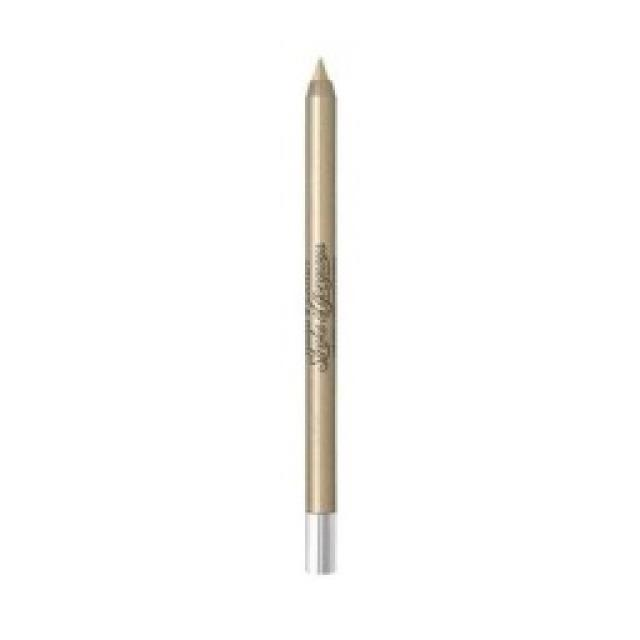pencil: (298, 53, 340, 575)
